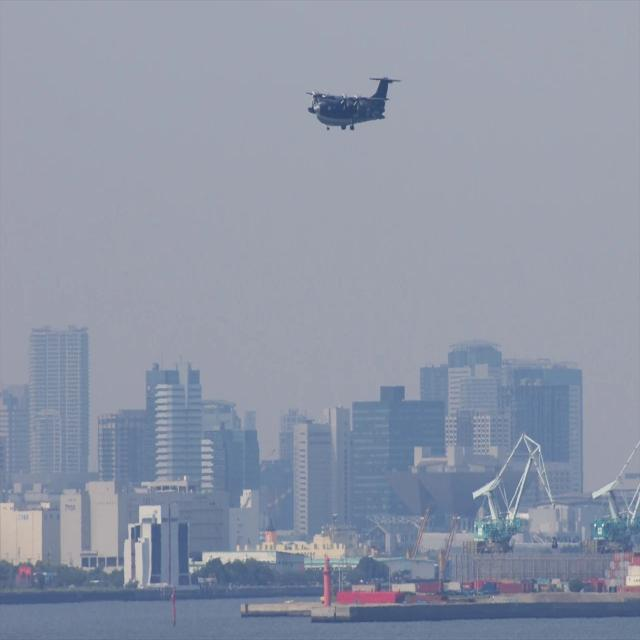MIL_Plane: (304, 76, 402, 131)
